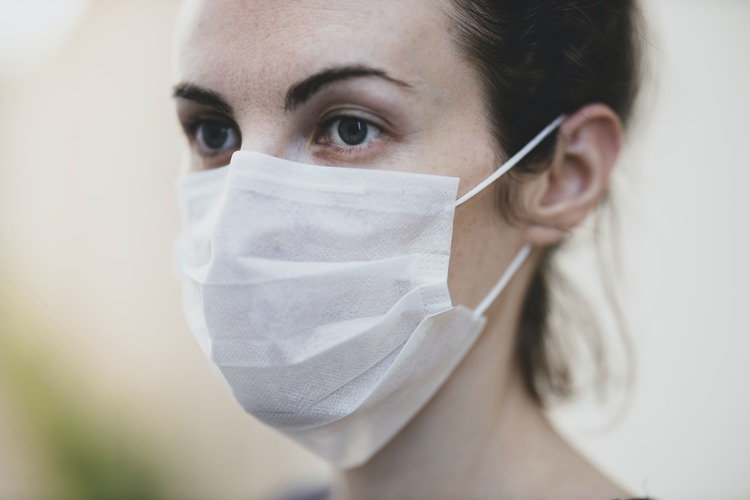with_mask: (177, 30, 469, 395)
